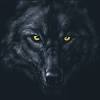Lobo: (6, 3, 92, 88)
